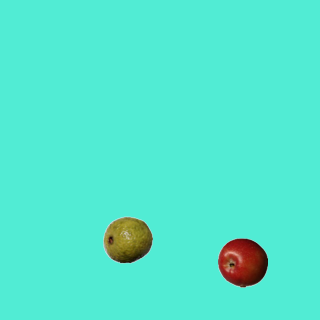Apple Braeburn: (217, 237, 267, 287)
Guava: (102, 214, 152, 264)
